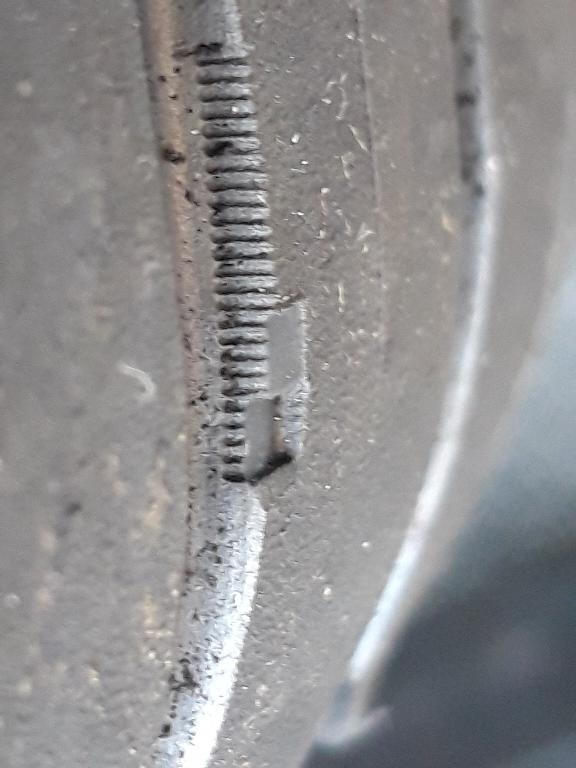temoin:25: (196, 276, 322, 516)
